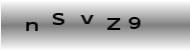9: (128, 17, 141, 29)
Z: (105, 17, 121, 31)
n: (25, 20, 39, 32)
s: (50, 12, 65, 25)
v: (80, 14, 95, 25)
